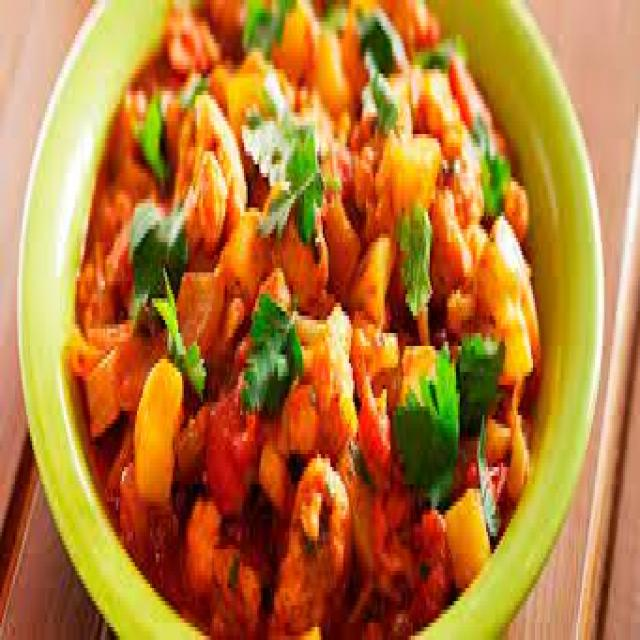Aloo Gobi: (82, 0, 535, 636)
